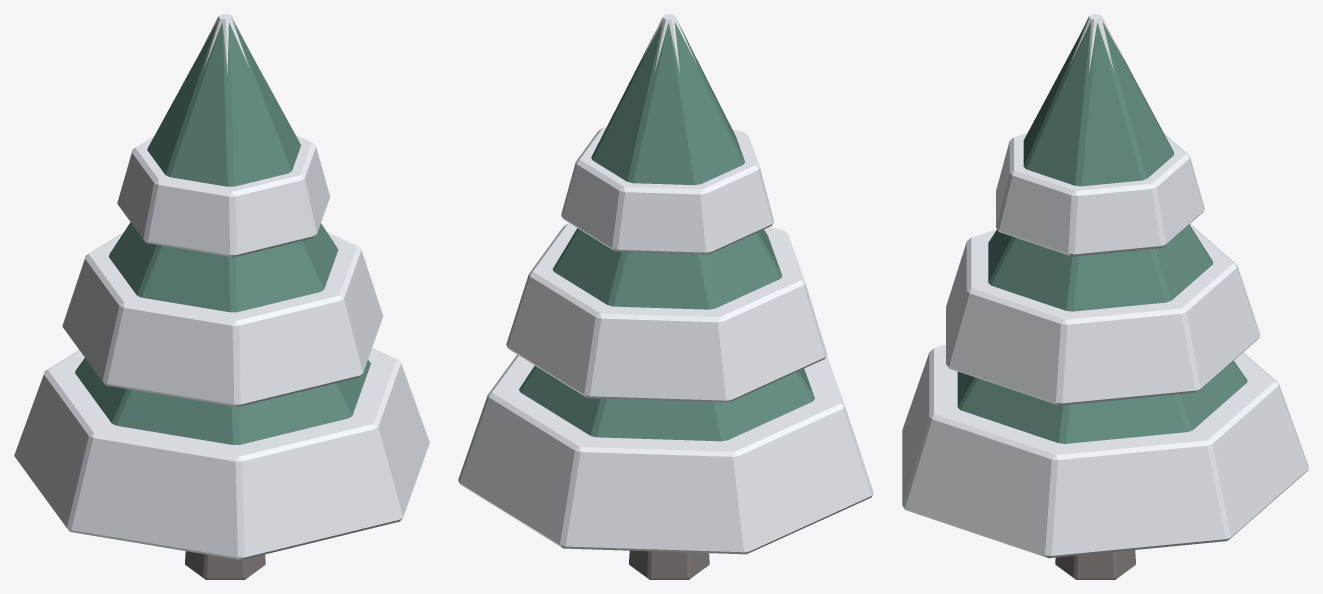
The model's file is pine_snow_large.glb.
3 renders of one model, left to right at view 1: azimuth 30°, elevation 25°; view 2: azimuth 150°, elevation 25°; view 3: azimuth 270°, elevation 25°, orthographic.
Parts seen in each view (by area): view 1: Snow1, Snow2, Snow3, Foliage3, Foliage2, Foliage1, Trunk, SnowCap; view 2: Snow1, Snow2, Snow3, Foliage3, Foliage2, Foliage1, Trunk, SnowCap; view 3: Snow1, Snow2, Snow3, Foliage3, Foliage2, Foliage1, Trunk, SnowCap.
Part boxes in pixels (x1=…): Snow1: x1=14, y1=347, x2=429, y2=560; Snow2: x1=62, y1=232, x2=383, y2=407; Snow3: x1=117, y1=135, x2=330, y2=257; Foliage3: x1=147, y1=21, x2=301, y2=257; Foliage2: x1=108, y1=222, x2=338, y2=312; Foliage1: x1=75, y1=358, x2=370, y2=444; Trunk: x1=185, y1=551, x2=265, y2=579; SnowCap: x1=198, y1=14, x2=248, y2=73; Snow1: x1=458, y1=354, x2=873, y2=554; Snow2: x1=506, y1=223, x2=827, y2=402; Snow3: x1=561, y1=127, x2=774, y2=254; Foliage3: x1=591, y1=20, x2=768, y2=254; Foliage2: x1=553, y1=228, x2=782, y2=309; Foliage1: x1=519, y1=365, x2=814, y2=441; Trunk: x1=629, y1=550, x2=709, y2=579; SnowCap: x1=641, y1=14, x2=696, y2=72; Snow1: x1=902, y1=344, x2=1308, y2=558; Snow2: x1=946, y1=223, x2=1259, y2=405; Snow3: x1=996, y1=132, x2=1204, y2=256; Foliage3: x1=1023, y1=20, x2=1173, y2=256; Foliage2: x1=988, y1=224, x2=1212, y2=311; Foliage1: x1=957, y1=360, x2=1247, y2=443; Trunk: x1=1055, y1=550, x2=1135, y2=579; SnowCap: x1=1070, y1=14, x2=1124, y2=73.
Size of the model in its own units: 1.7 by 2.47 by 1.66.
